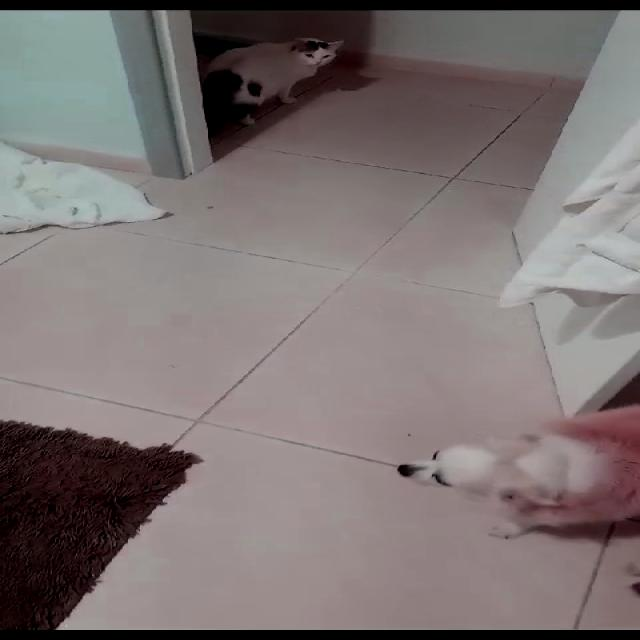Simba: (198, 20, 362, 138)
Theo: (373, 390, 639, 554)
